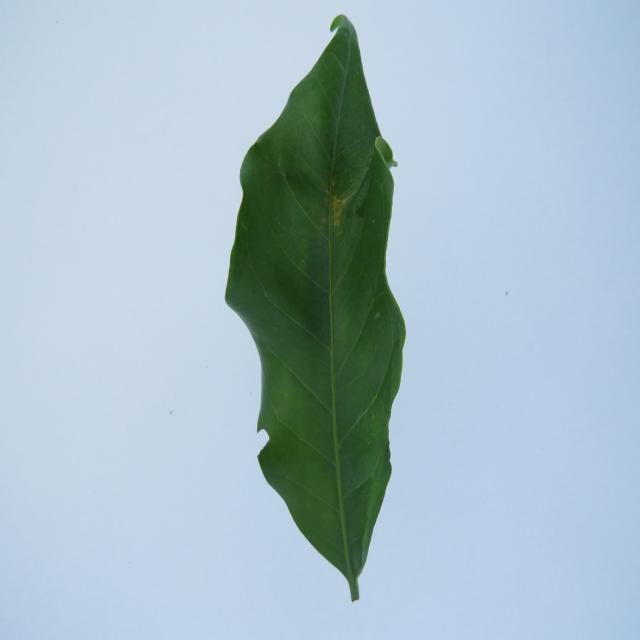DeficienciaNutricional-Calcio: (225, 15, 405, 600)
